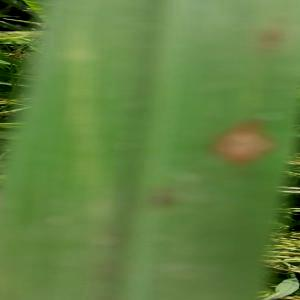1 RiceBlast: (203, 111, 291, 177)
